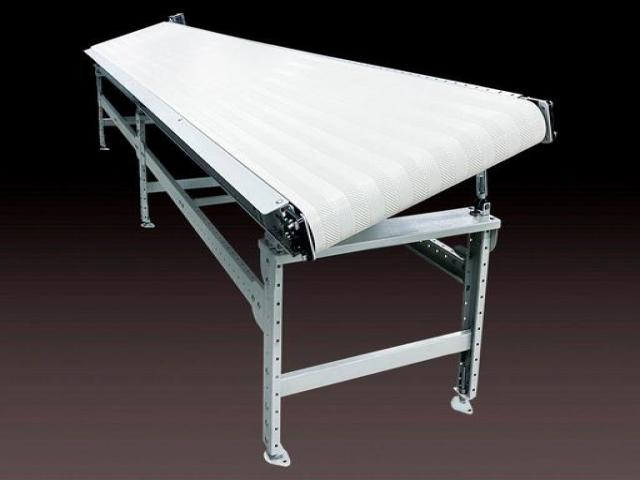conveyor: (81, 13, 559, 264)
